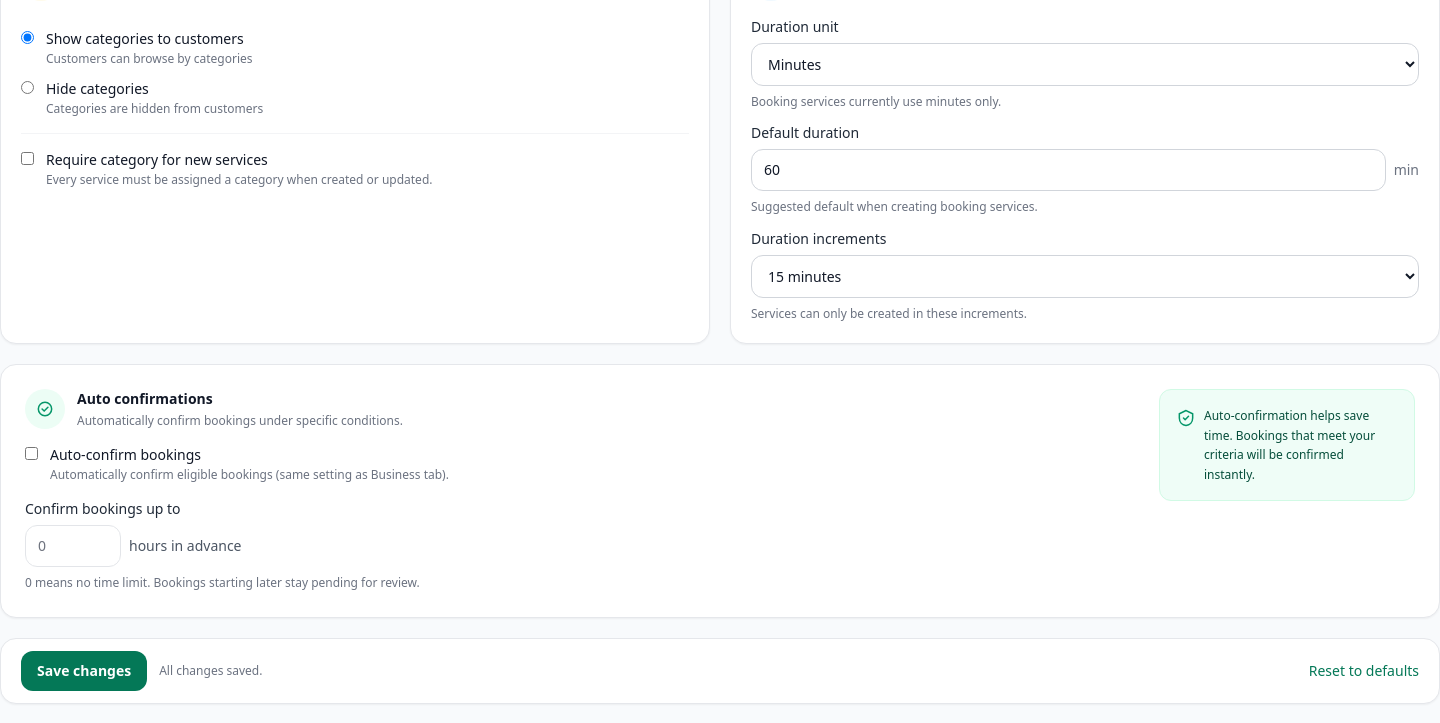
Test: admin services settings › shows API error without fake success
(page scrolled)
Click the button with test id "admin-services-settings-save".
click(84, 670)  # box left=21, top=650, right=147, bottom=690
(page scrolled)
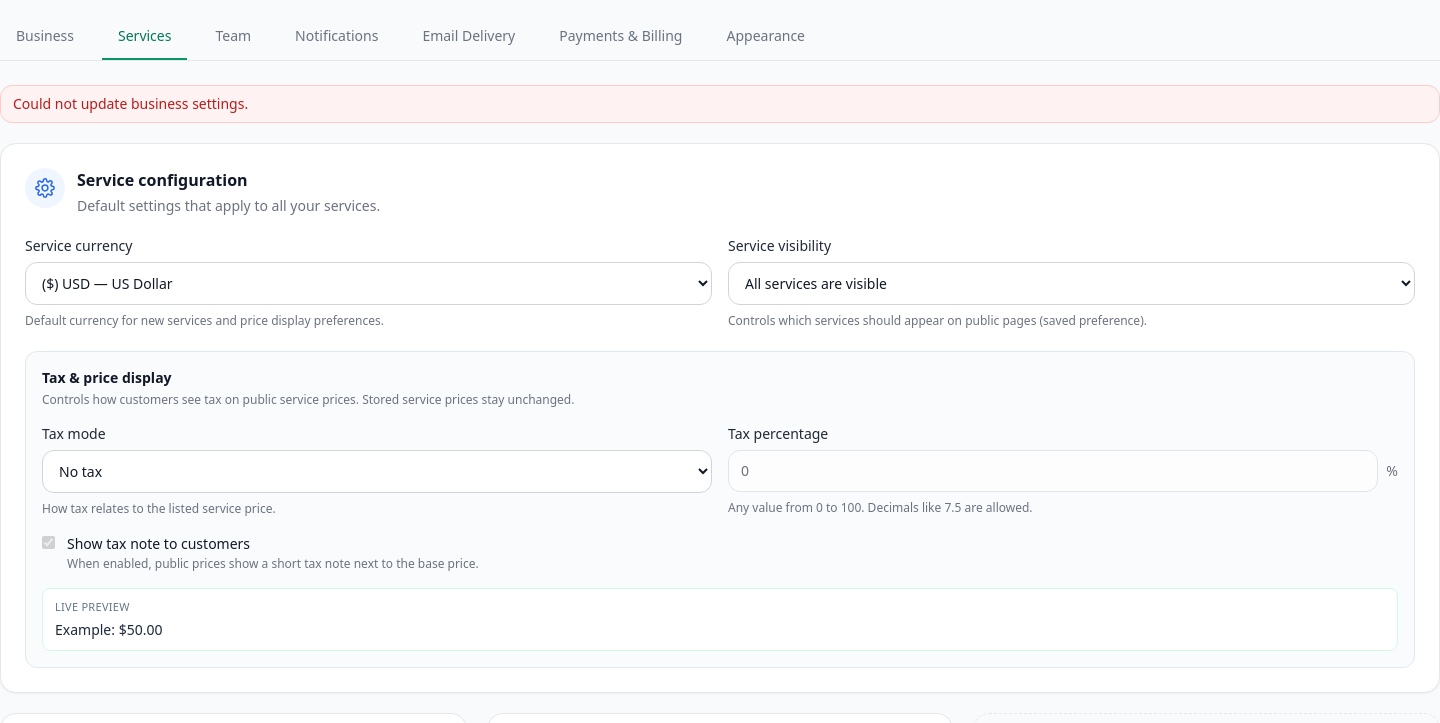
Now the message with test id "admin-services-settings-error" reads "Could not update business settings.", box left=13, top=94, right=248, bottom=113
